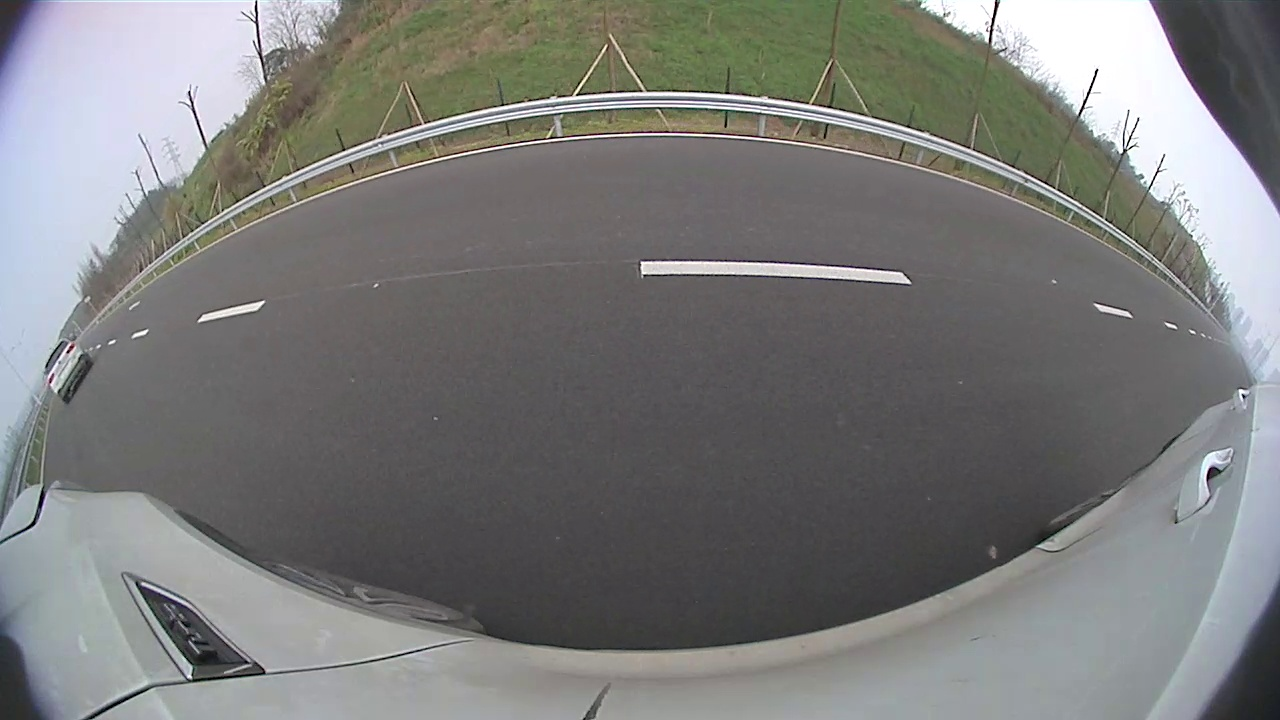car: (708, 146, 787, 200)
front: (709, 172, 717, 192)
rear: (723, 174, 735, 197)
